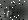person: (10, 7, 16, 19), (2, 10, 8, 19)
